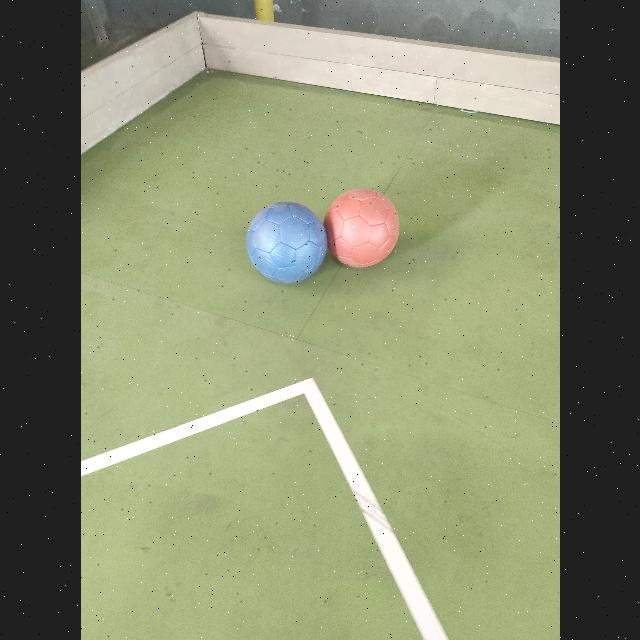B: (246, 203, 326, 283)
R: (324, 189, 399, 266)
